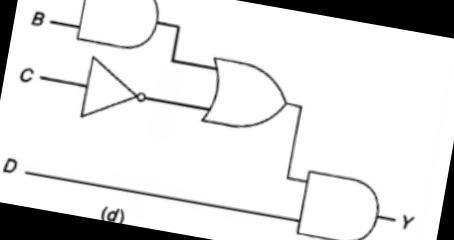and: (293, 164, 390, 240), (69, 0, 167, 56)
not: (76, 52, 156, 131)
or: (197, 53, 297, 140)
